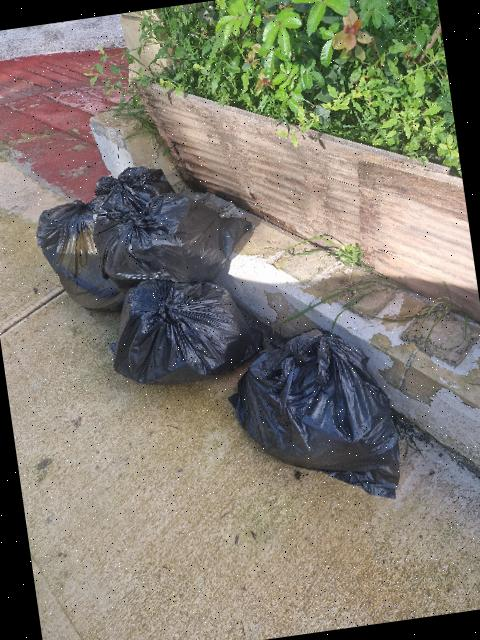Mixed -Black-: (236, 332, 399, 497), (114, 280, 263, 383)
Recyclable -Grey-: (90, 167, 252, 288), (37, 199, 124, 311)
